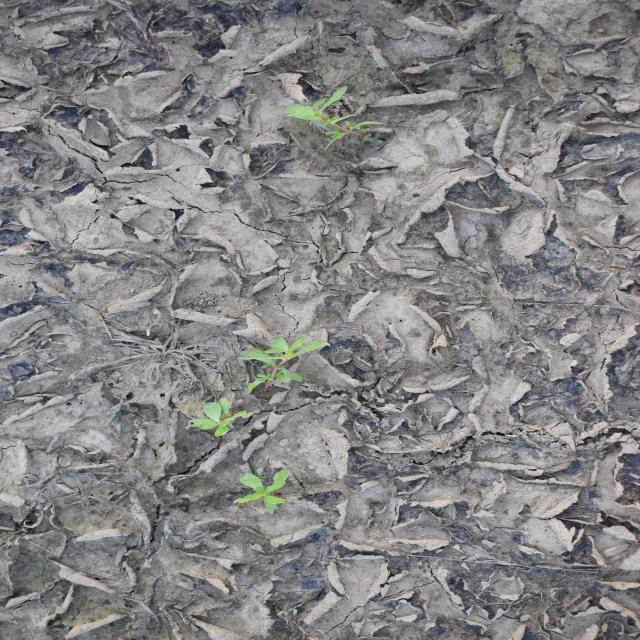Purslane: (185, 336, 328, 438), (283, 84, 385, 150), (236, 469, 292, 516)
